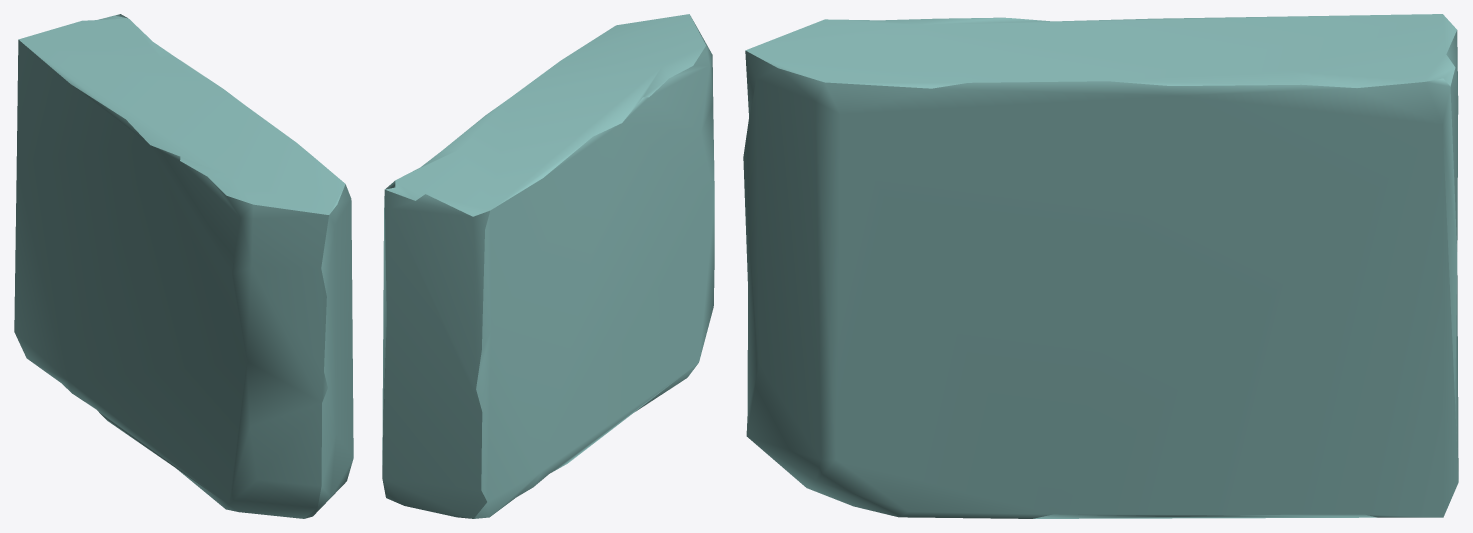
File: stone_element_37d.fbx
3 renders of one model, left to right at view 1: azimuth 30°, elevation 25°; view 2: azimuth 150°, elevation 25°; view 3: azimuth 270°, elevation 25°, orthographic. The views are drawn at different scales.
Visible parts, largest first — view 1: stone_element_37d; view 2: stone_element_37d; view 3: stone_element_37d.
Part boxes in pixels (x1=…): stone_element_37d: x1=14, y1=14, x2=353, y2=518; stone_element_37d: x1=382, y1=14, x2=714, y2=518; stone_element_37d: x1=743, y1=14, x2=1458, y2=518.
Bounding box in the file's own units: 33.54 × 94.16 × 139.
